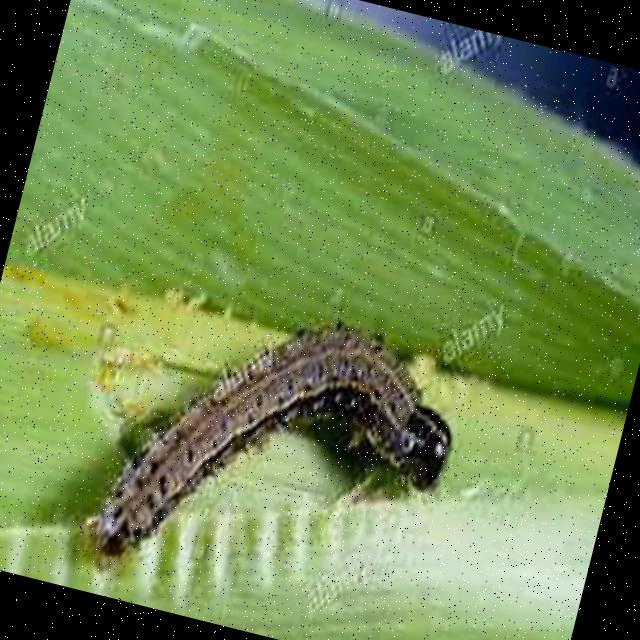worm: (78, 269, 478, 640)
